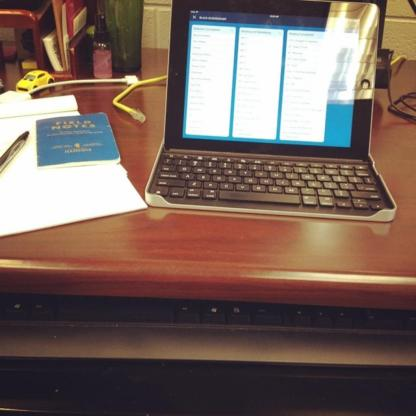board: (138, 11, 408, 220)
